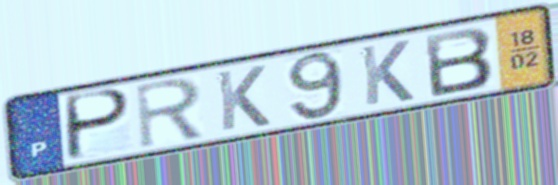9: (282, 49, 346, 122)
B: (421, 24, 496, 100)
K: (356, 37, 417, 108), (213, 62, 273, 134)
P: (64, 87, 135, 164)
R: (132, 75, 207, 152)
